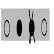correct: (16, 18, 23, 40)
no answer: (40, 18, 47, 38)
not correct: (27, 8, 36, 46)
